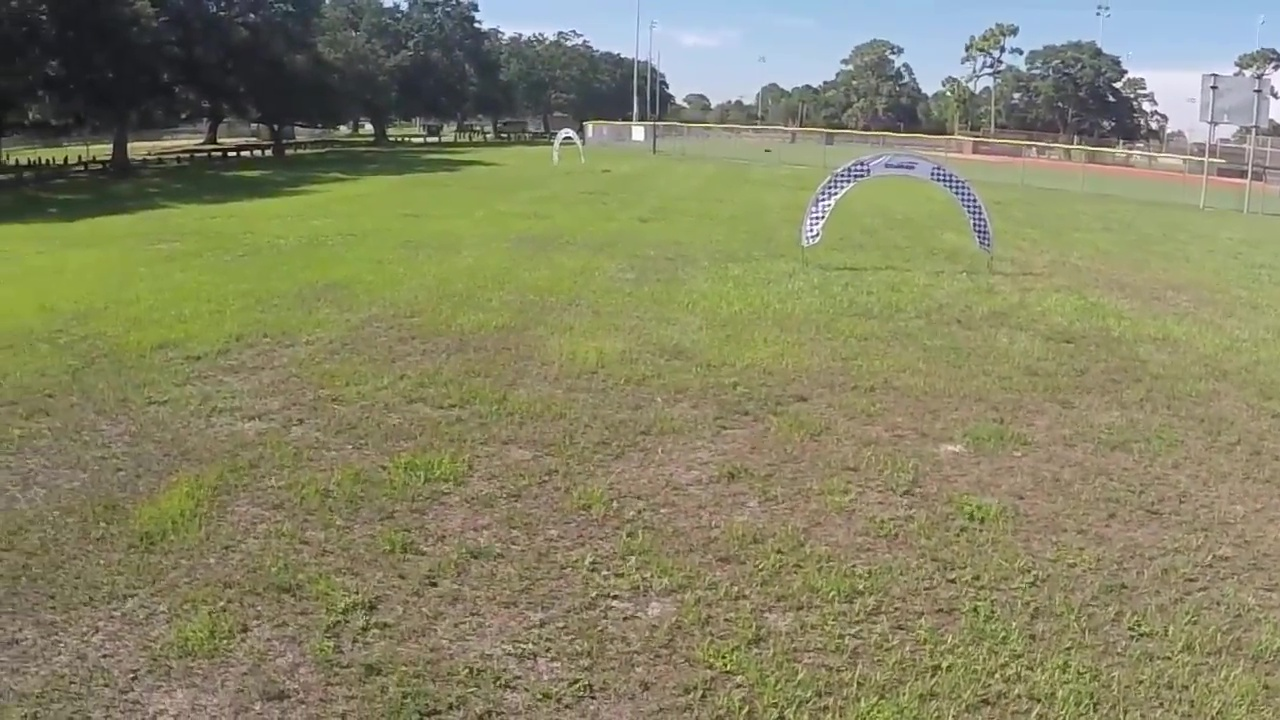gate: (800, 154, 997, 252), (551, 125, 587, 167)
